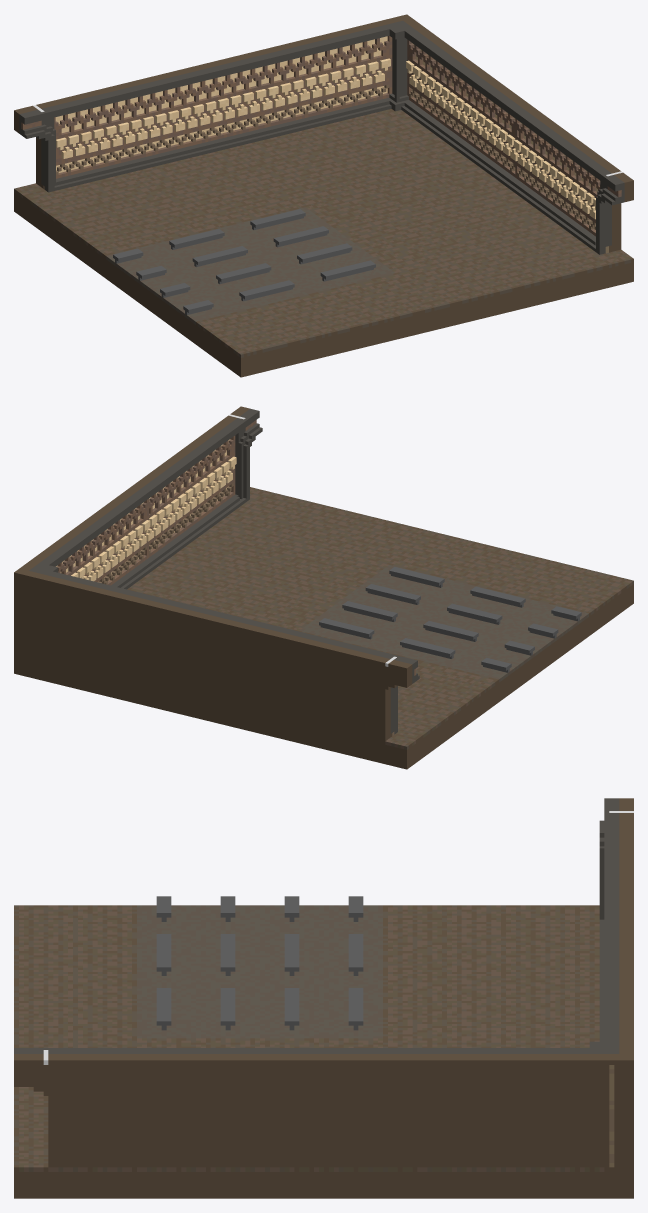
File: SpeechRoom-0.obj
The picture shows the model from 3 angles, top to bottom: view 1: azimuth 30°, elevation 25°; view 2: azimuth 150°, elevation 25°; view 3: azimuth 270°, elevation 25°; orthographic projection. The views are drawn at different scales.
Size of the model in its own units: 12.6 by 3.1 by 12.6.
